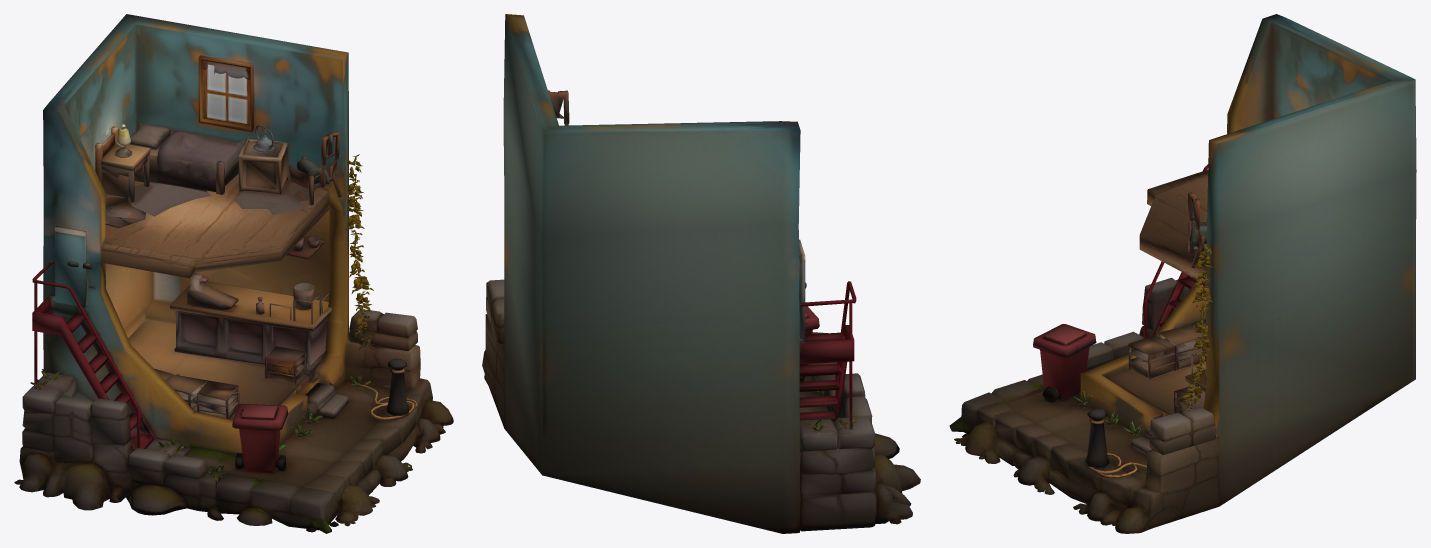
The model's file is tier1.glb.
3 renders of one model, left to right at view 1: azimuth 30°, elevation 25°; view 2: azimuth 150°, elevation 25°; view 3: azimuth 270°, elevation 25°, orthographic. The views are drawn at different scales.
Parts seen in each view (by area): view 1: tripo_node_b3ab00fa-9933-434d-ada8-b8cce2eba399; view 2: tripo_node_b3ab00fa-9933-434d-ada8-b8cce2eba399; view 3: tripo_node_b3ab00fa-9933-434d-ada8-b8cce2eba399.
Boxes of the visible parts, bbox=[...] form: tripo_node_b3ab00fa-9933-434d-ada8-b8cce2eba399: bbox=[14, 14, 453, 533]; tripo_node_b3ab00fa-9933-434d-ada8-b8cce2eba399: bbox=[482, 14, 920, 533]; tripo_node_b3ab00fa-9933-434d-ada8-b8cce2eba399: bbox=[949, 14, 1416, 533].
Bounding box in the file's own units: 1.18 × 0.998 × 1.16.
Materials: 1 (1 with a texture image).
